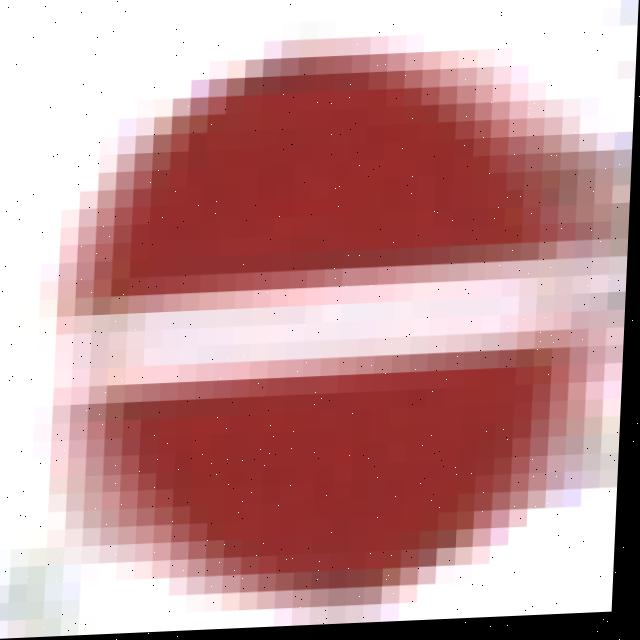road_rough: (26, 43, 637, 602)
